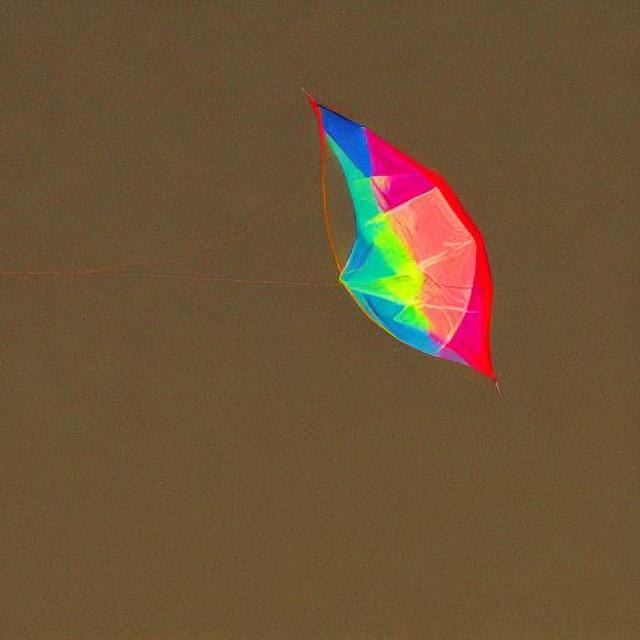floating object: (302, 83, 500, 390)
